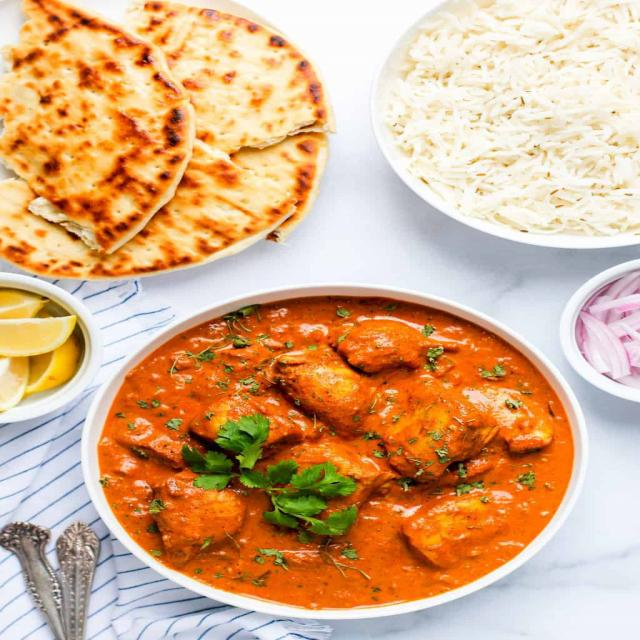Butter Chicken: (97, 297, 572, 610)
White Rice: (382, 0, 639, 237)
